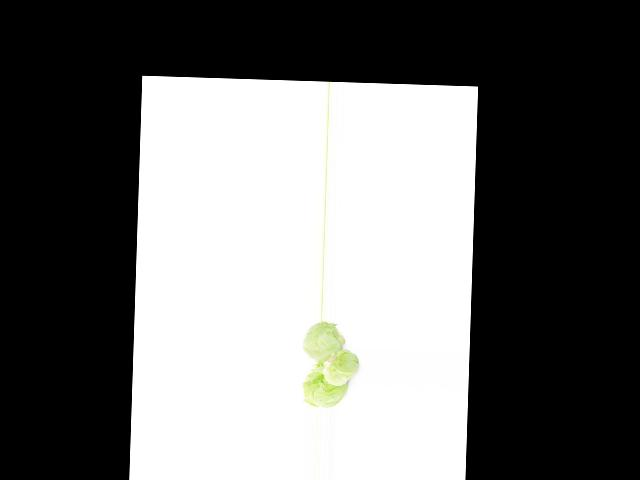lettuce: (304, 368, 345, 406)
